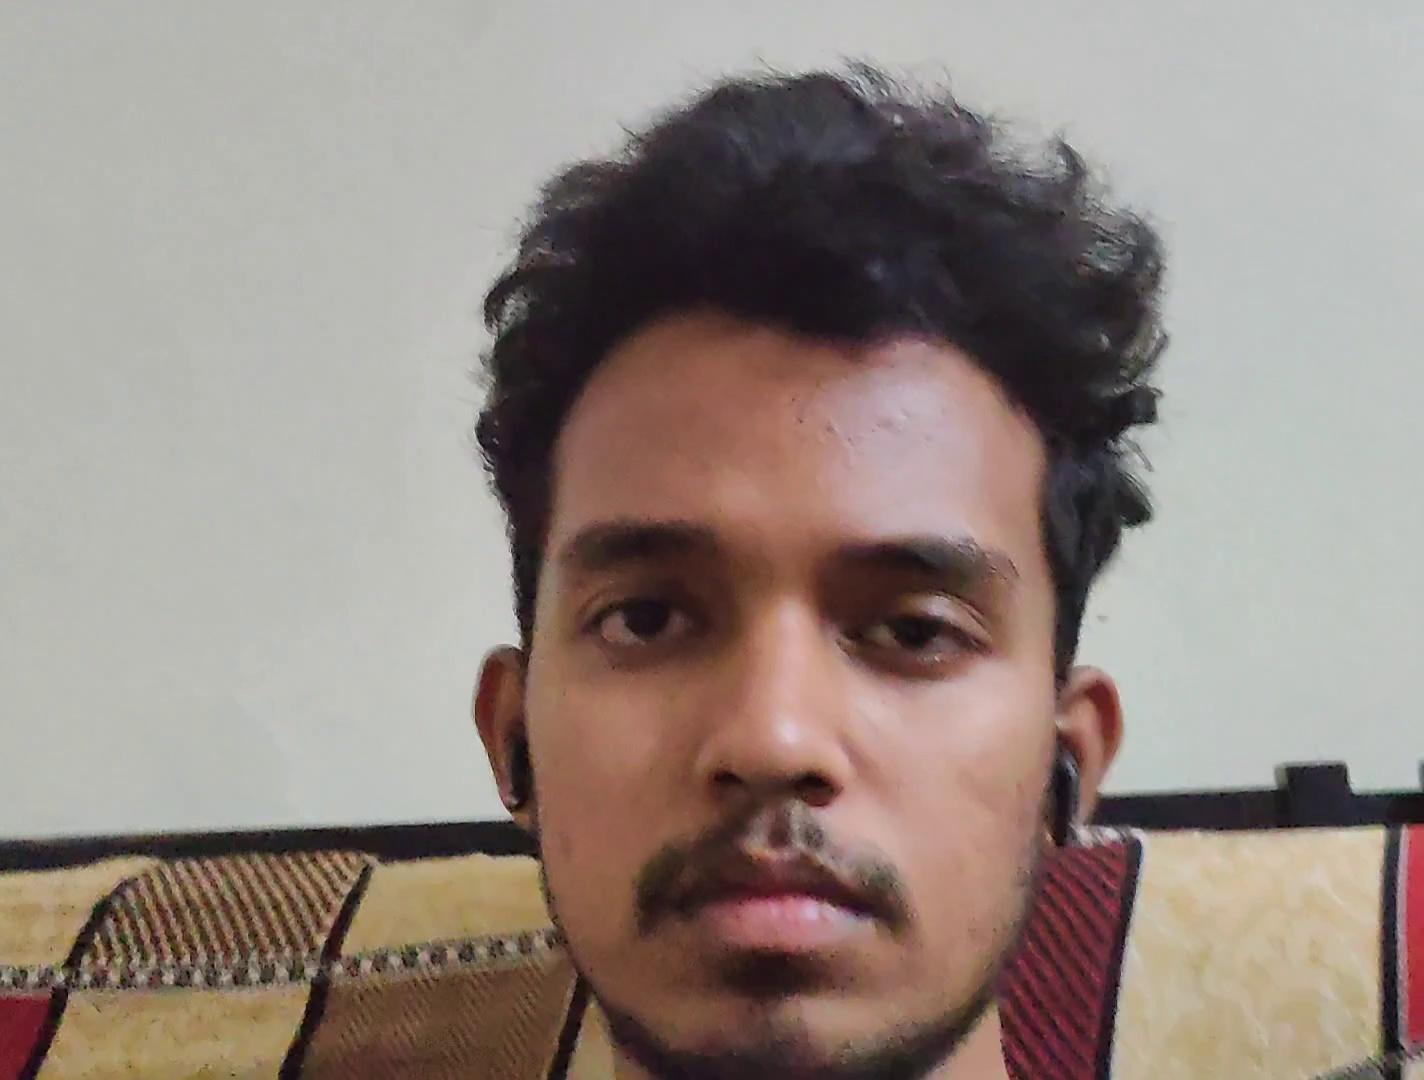face: (523, 322, 1061, 1071)
